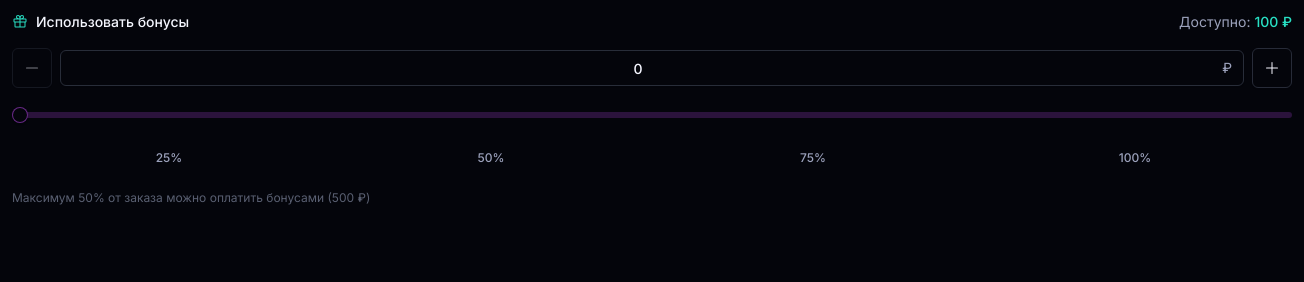
it: BonusApplicator › Validation › should show error when entering more than available balance
In the field: (652, 68) [60,50,1244,86], type "200"
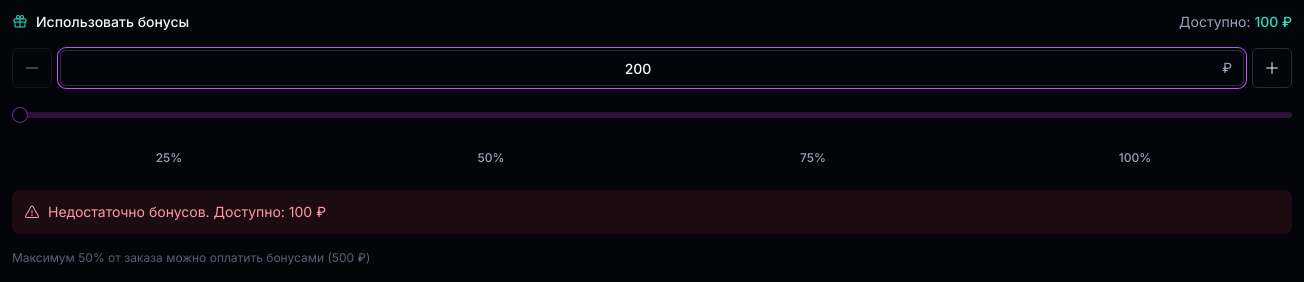
expect the text "Недостаточно бонусов. Доступно: 100 ₽" is shown: met, box [48,202,326,222]
